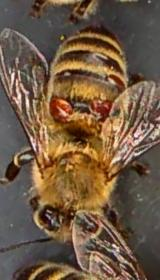varroa_mite: (46, 91, 78, 122), (90, 88, 113, 124), (102, 66, 124, 96)
